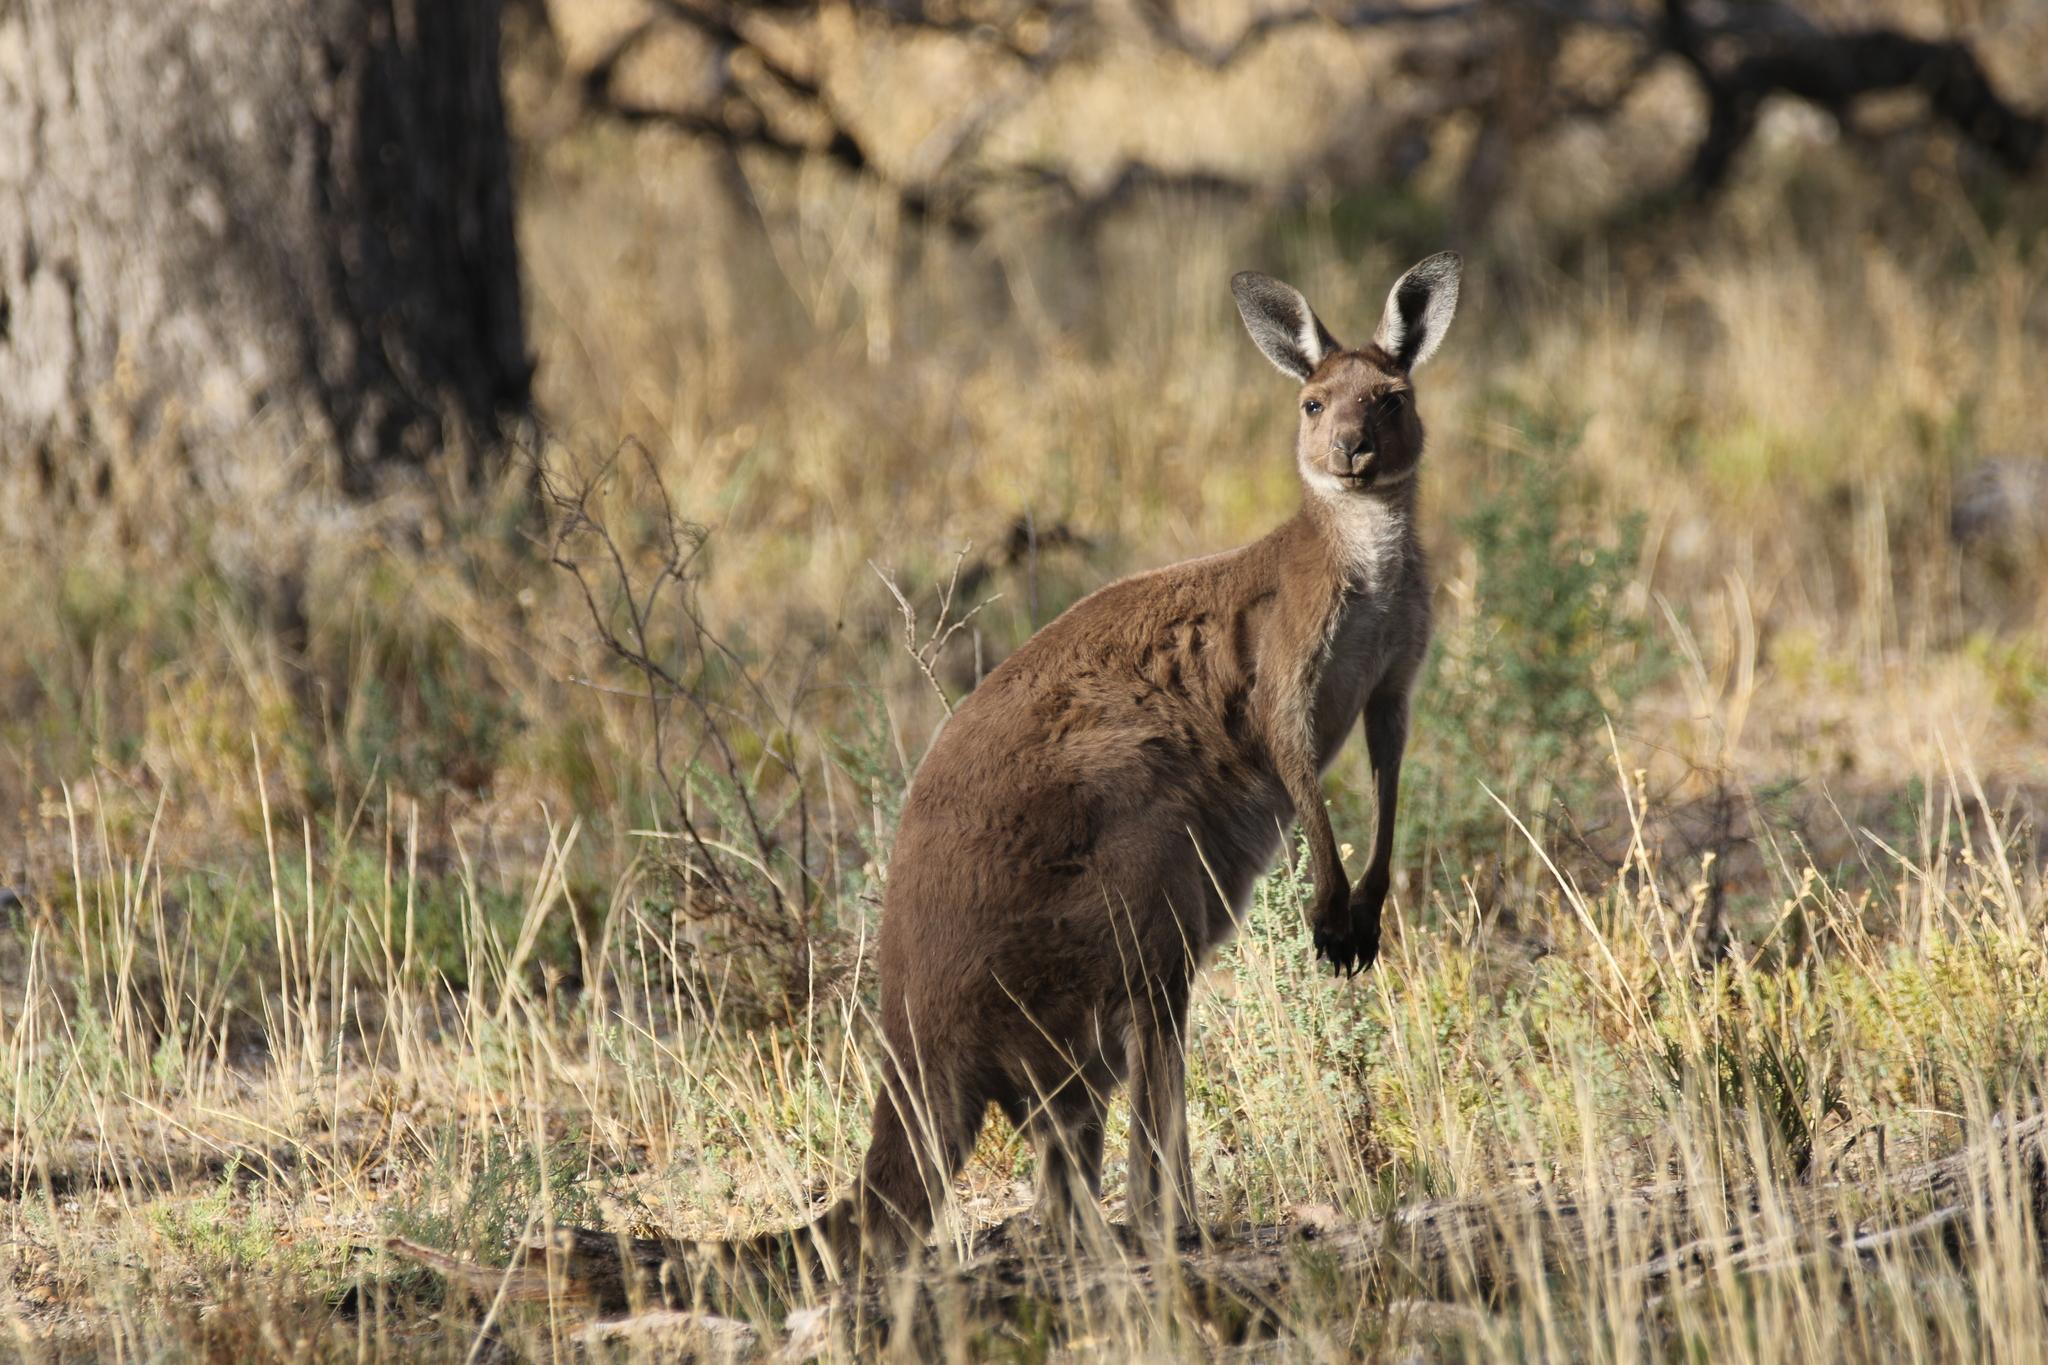Western grey kangaroo: (527, 253, 1472, 1295)
